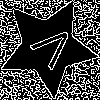V: (23, 21, 78, 77)
